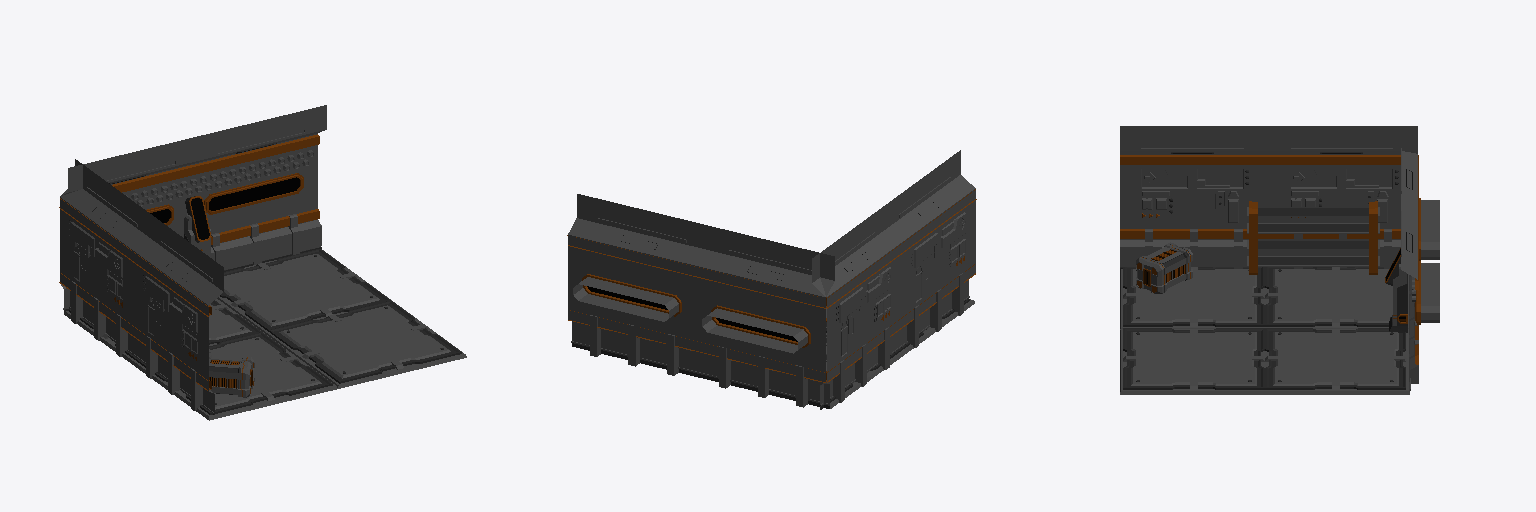
The model's file is Level.obj.
3 views of the same model, side by side, from view 1: azimuth 30°, elevation 25°; view 2: azimuth 150°, elevation 25°; view 3: azimuth 270°, elevation 25° (orthographic).
Parts seen in each view (by area): view 1: FloorTile_Basic_Plane.001, Wall_4_Plane.001, LongWindow_Wall_SideA_Plane.001, Details_Dots_Cylinder.007, Props_CrateLong_Cube.021, Props_Computer_Cube.028; view 2: LongWindow_Wall_SideA_Plane.001, Wall_4_Plane.001, FloorTile_Basic_Plane.001; view 3: FloorTile_Basic_Plane.001, Wall_4_Plane.001, Props_Shelf_Cube.001, LongWindow_Wall_SideA_Plane.001, Props_CrateLong_Cube.021, Props_Computer_Cube.028.
Boxes of the visible parts, box(x1,y1,x2,y2) form: FloorTile_Basic_Plane.001: box(64, 249, 466, 420); Wall_4_Plane.001: box(59, 159, 223, 414); LongWindow_Wall_SideA_Plane.001: box(61, 105, 326, 312); Details_Dots_Cylinder.007: box(126, 150, 314, 206); Props_CrateLong_Cube.021: box(209, 354, 254, 397); Props_Computer_Cube.028: box(184, 196, 210, 257); LongWindow_Wall_SideA_Plane.001: box(567, 194, 834, 408); Wall_4_Plane.001: box(812, 150, 976, 409); FloorTile_Basic_Plane.001: box(826, 298, 974, 408); FloorTile_Basic_Plane.001: box(1120, 267, 1409, 394); Wall_4_Plane.001: box(1120, 126, 1417, 269); Props_Shelf_Cube.001: box(1247, 201, 1379, 274); LongWindow_Wall_SideA_Plane.001: box(1401, 148, 1439, 390); Props_CrateLong_Cube.021: box(1136, 242, 1192, 293); Props_Computer_Cube.028: box(1385, 248, 1407, 332).
Size of the model in its own units: 20.29 by 11.08 by 21.52.